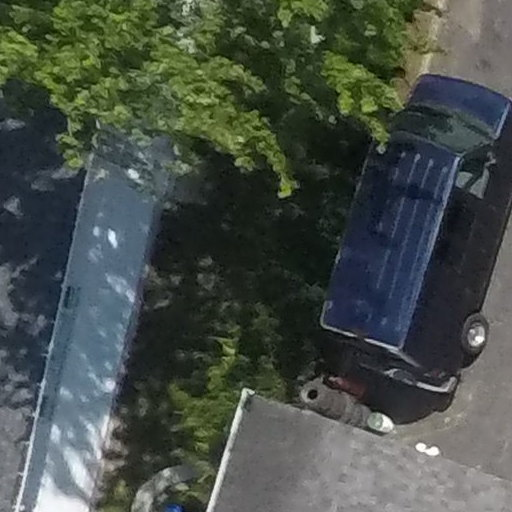bucket: (363, 406, 396, 433)
car: (321, 48, 512, 412)
container: (364, 408, 398, 437)
tire: (295, 373, 331, 411)
